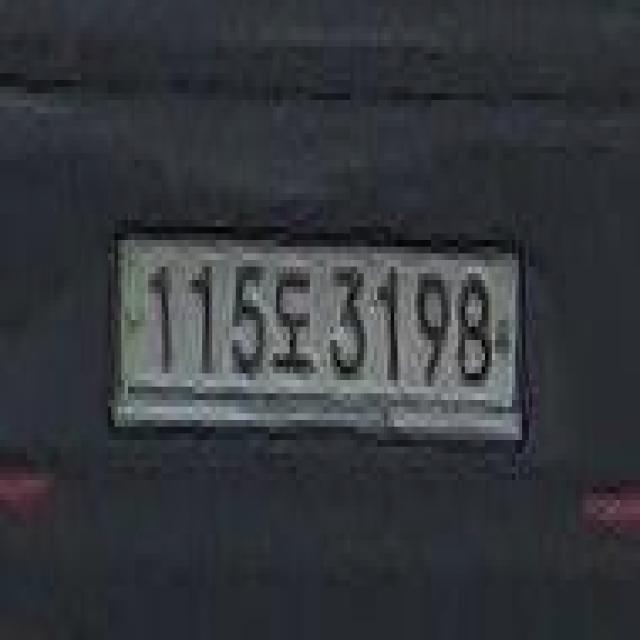illegal_plate: (107, 214, 536, 464)
